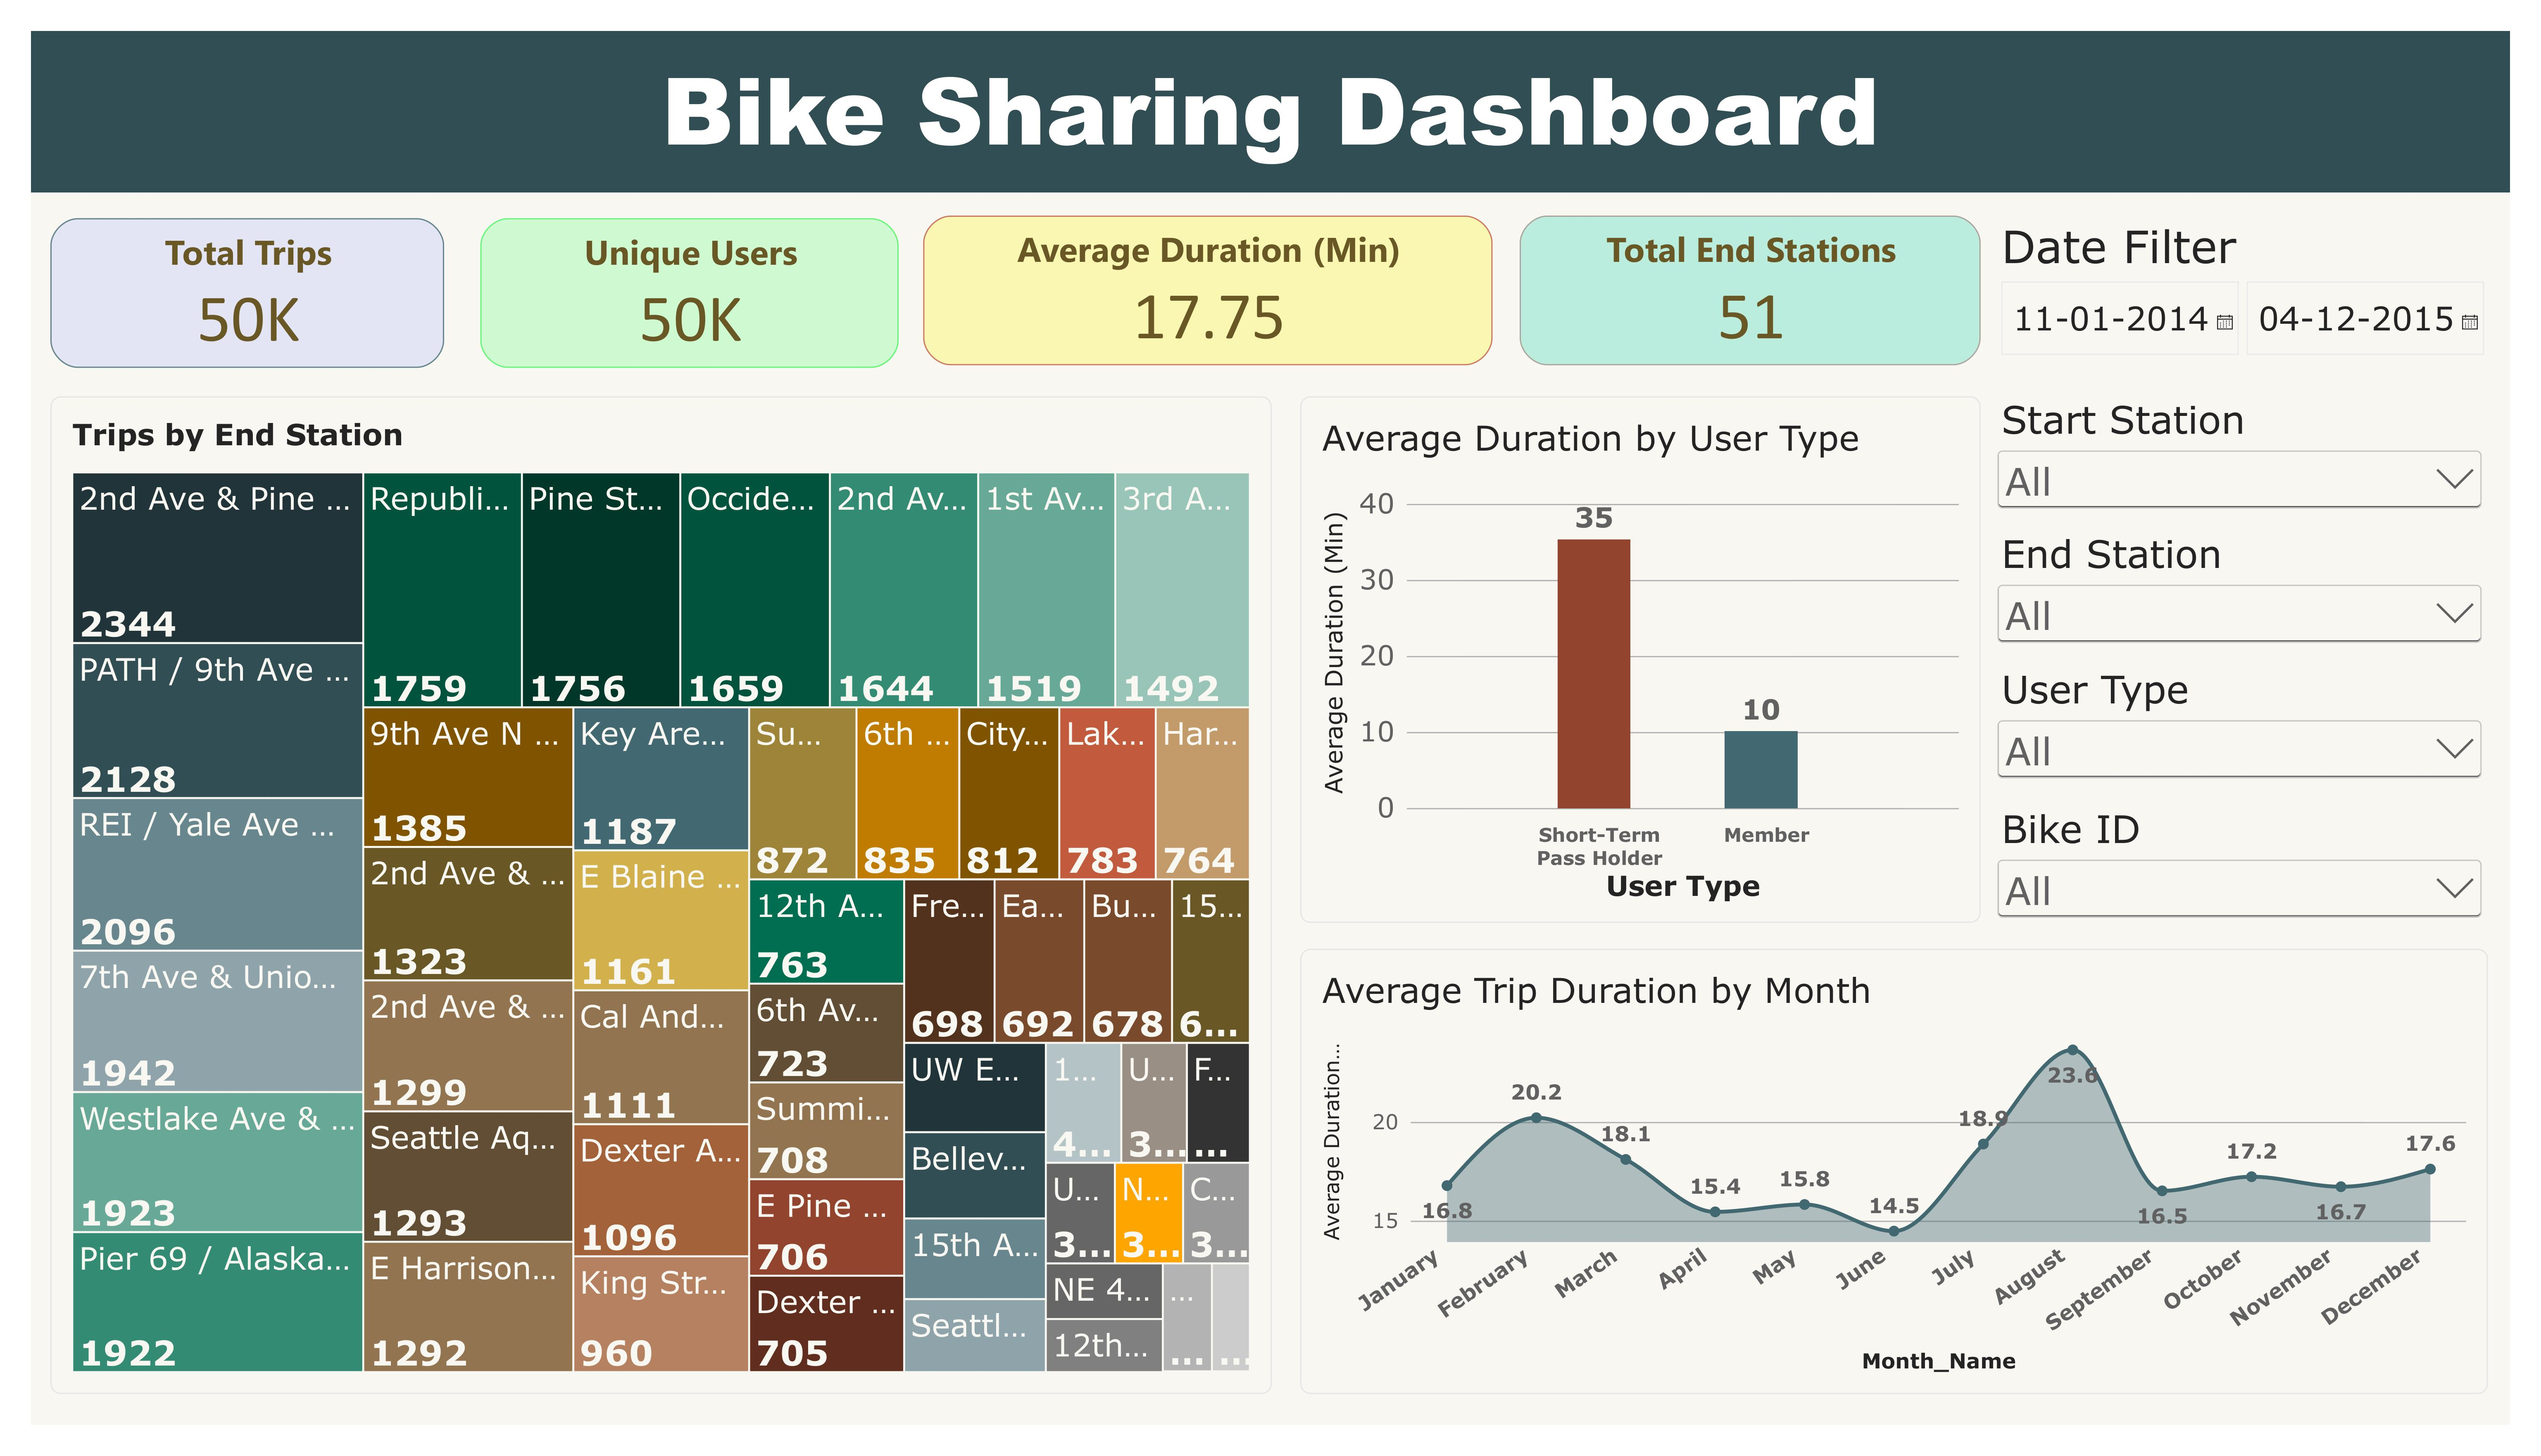

Layout of this report page (visuals, bound fields, positions):
{"tool":"powerbi","page":{"name":"Page 2","canvas":[1920,1080],"ordinal":1},"visuals":[{"type":"textbox","box":[0,0,1920.2,125.3],"z":0},{"type":"cardVisual","fields":{"Data":["trip_dataset2.Total Trips"]},"box":[15.1,144.7,304.6,116.6],"z":1000},{"type":"cardVisual","fields":{"Data":["trip_dataset2.Unique Users"]},"box":[347.8,144.7,324,116.6],"z":2000},{"type":"cardVisual","fields":{"Data":["trip_dataset2.Average Duration (Min)"]},"box":[691.2,142.6,440.6,116.6],"z":3000},{"type":"cardVisual","fields":{"Data":["trip_dataset2.Total End Stations"]},"box":[1153.4,142.6,356.4,116.6],"z":4000},{"type":"treemap","title":"Trips by End Station","fields":{"Group":["trip_dataset2.to_station_name"],"Values":["CountNonNull(trip_dataset2.trip_id)"]},"box":[14.6,282.9,946.3,773.2],"z":5000},{"type":"clusteredColumnChart","title":"Average Duration by User Type","fields":{"Category":["trip_dataset2.usertype"],"Y":["trip_dataset2.Average Duration (Min)"]},"box":[982.8,283,527,408.2],"z":6000},{"type":"slicer","fields":{"Values":["trip_dataset2.Trip_Date"]},"box":[1518.5,144.7,384.5,229],"z":7000},{"type":"slicer","fields":{"Values":["trip_dataset2.from_station_name"]},"box":[1518.5,283,384.5,90.7],"z":8000},{"type":"slicer","fields":{"Values":["trip_dataset2.usertype"]},"box":[1518.5,492.5,384.5,92.9],"z":9000},{"type":"slicer","fields":{"Values":["trip_dataset2.to_station_name"]},"box":[1518.5,386.6,384.5,90.7],"z":10000},{"type":"slicer","fields":{"Values":["trip_dataset2.bikeid"]},"box":[1518.5,600.5,384.5,90.7],"z":11000},{"type":"areaChart","title":"Average Trip Duration by Month","fields":{"Category":["trip_dataset2.Month_Name"],"Y":["trip_dataset2.Average Duration (Min)"]},"box":[982.8,710.6,920.2,345.6],"z":11002}]}

Visuals, with their boxes on the page's 1920x1080 design canvas (x1, y1, x2, y2). These are canvas units, not pixel positions in the 2541x1456 screenshot, which may show the page scaled, cropped or inside an application window:
textbox: locate(0, 0, 1920, 125)
cardVisual - trip_dataset2.Total Trips: locate(15, 145, 320, 261)
cardVisual - trip_dataset2.Unique Users: locate(348, 145, 672, 261)
cardVisual - trip_dataset2.Average Duration (Min): locate(691, 143, 1132, 259)
cardVisual - trip_dataset2.Total End Stations: locate(1153, 143, 1510, 259)
"Trips by End Station" treemap: locate(15, 283, 961, 1056)
"Average Duration by User Type" clusteredColumnChart: locate(983, 283, 1510, 691)
slicer - trip_dataset2.Trip_Date: locate(1518, 145, 1903, 374)
slicer - trip_dataset2.from_station_name: locate(1518, 283, 1903, 374)
slicer - trip_dataset2.usertype: locate(1518, 492, 1903, 585)
slicer - trip_dataset2.to_station_name: locate(1518, 387, 1903, 477)
slicer - trip_dataset2.bikeid: locate(1518, 600, 1903, 691)
"Average Trip Duration by Month" areaChart: locate(983, 711, 1903, 1056)
